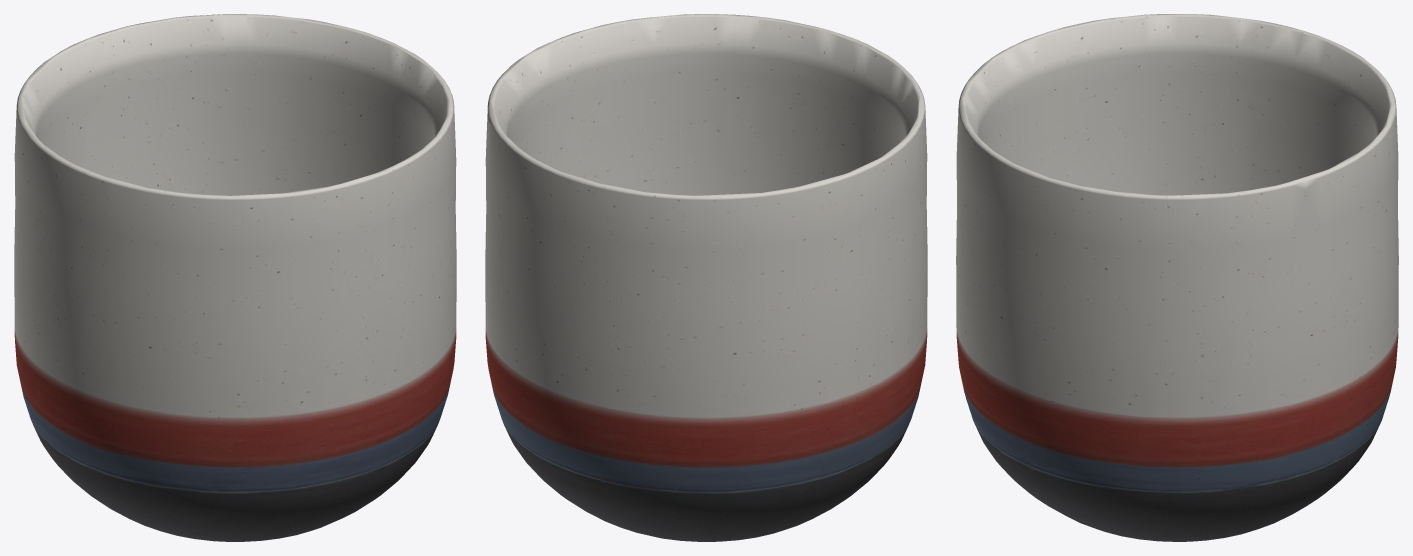
File: abo-B07HSKBHBT.glb
The picture shows the model from 3 angles, left to right: view 1: azimuth 30°, elevation 25°; view 2: azimuth 150°, elevation 25°; view 3: azimuth 270°, elevation 25°; orthographic projection.
Parts seen in each view (by area): view 1: RootNode; view 2: RootNode; view 3: RootNode.
Part boxes in pixels (x1,y1,x2,y2): RootNode: [14, 14, 456, 541]; RootNode: [485, 14, 927, 541]; RootNode: [956, 14, 1398, 541].
Bounding box in the file's own units: 0.2684 × 0.2698 × 0.2684.
1 material, 1 textured.
